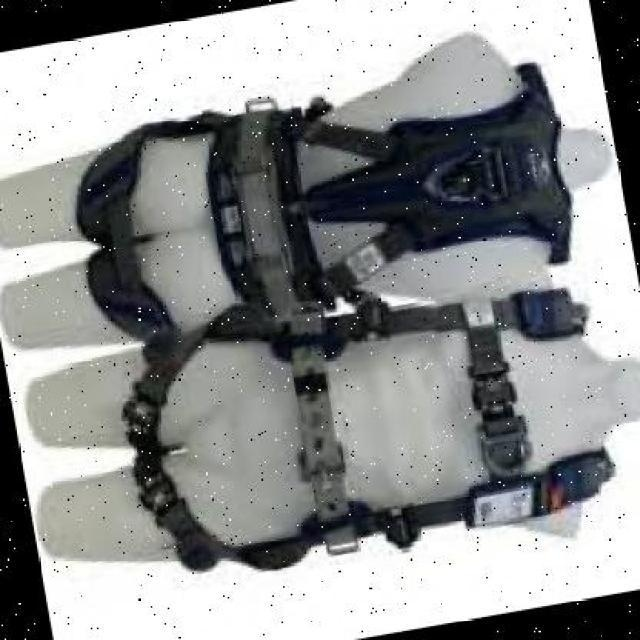Arnes_seguridad: (107, 246, 622, 595), (59, 50, 581, 353)
